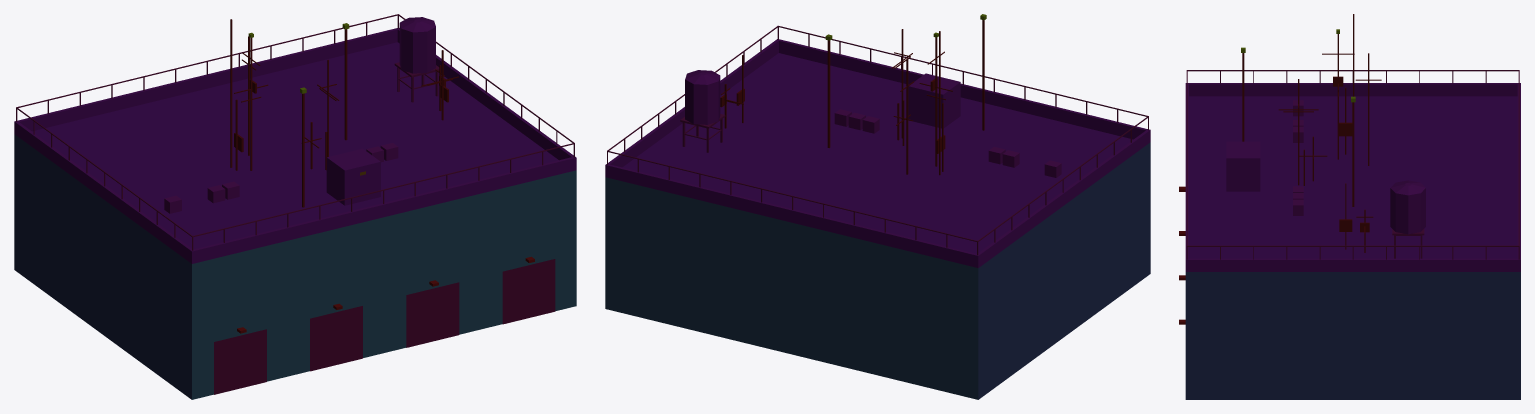
The model's file is midrise_c.glb.
The picture shows the model from 3 angles, left to right: view 1: azimuth 30°, elevation 25°; view 2: azimuth 150°, elevation 25°; view 3: azimuth 270°, elevation 25°; orthographic projection. The views are drawn at different scales.
Parts seen in each view (by area): view 1: midrise_c; view 2: midrise_c; view 3: midrise_c.
Boxes of the visible parts, x1,y1,x2,y2 form: midrise_c: [14, 14, 576, 399]; midrise_c: [605, 14, 1150, 399]; midrise_c: [1179, 14, 1520, 399].
Bounding box in the file's own units: 32 × 22.57 × 26.1.
